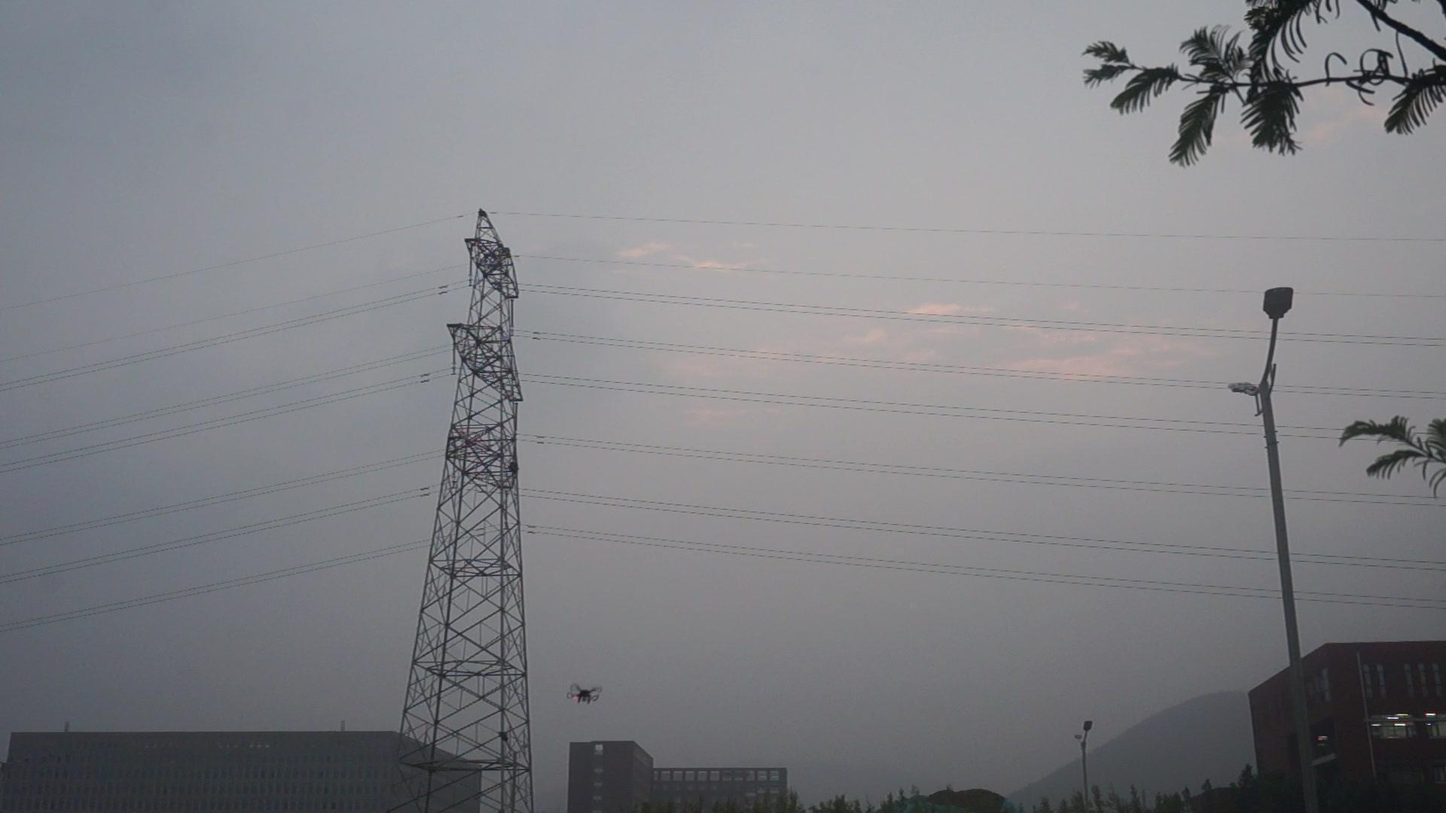UAV: (567, 684, 604, 705)
